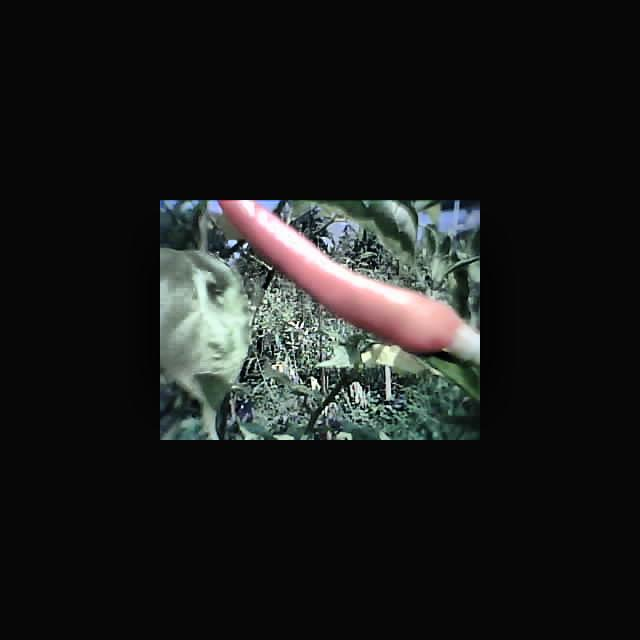Cabai: (222, 200, 480, 356)
